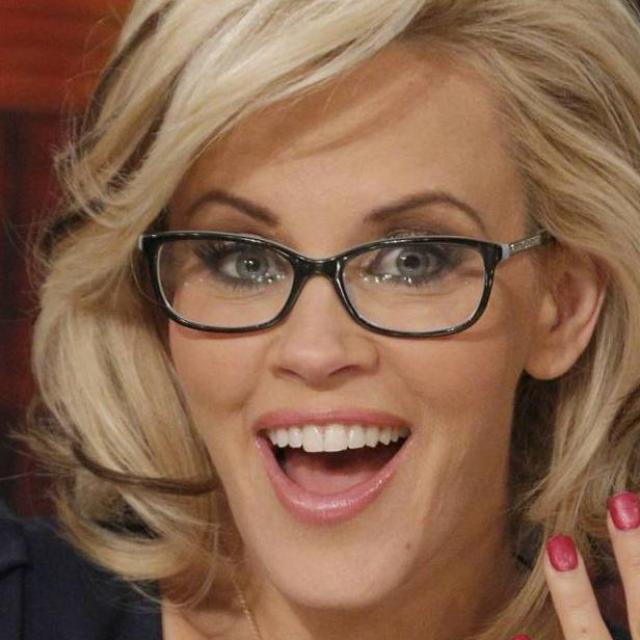surprised: (120, 110, 548, 602)
